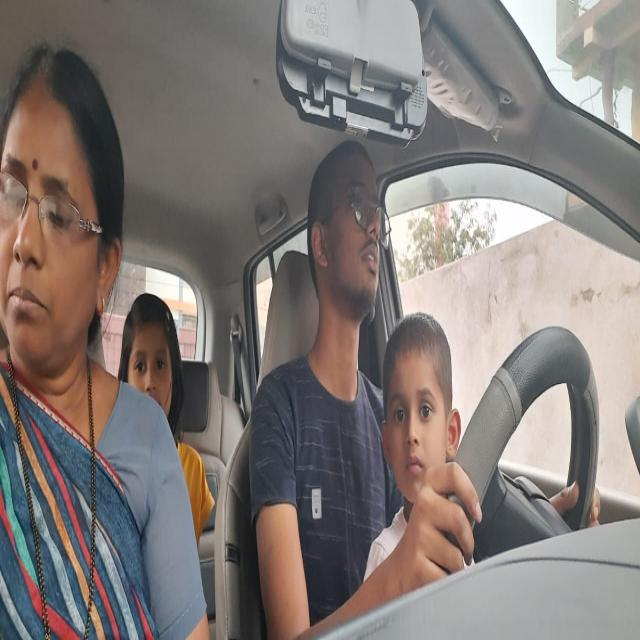child: (377, 302, 472, 496)
person: (0, 45, 128, 398), (306, 133, 398, 322), (118, 285, 186, 441)
